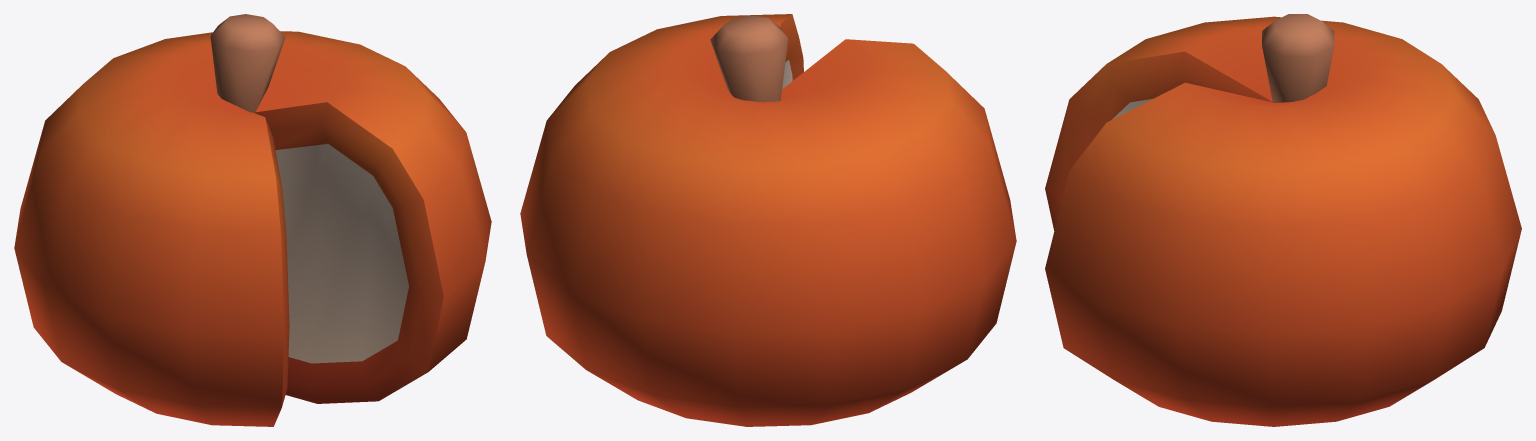
Rendered from KFB_Loot_apple_cut.r1.glb.
3 views of the same model, side by side, from view 1: azimuth 30°, elevation 25°; view 2: azimuth 150°, elevation 25°; view 3: azimuth 270°, elevation 25° (orthographic). The views are drawn at different scales.
Visible parts, largest first — view 1: KFB_Loot_apple_cut; view 2: KFB_Loot_apple_cut; view 3: KFB_Loot_apple_cut.
Part boxes in pixels (x1=…): KFB_Loot_apple_cut: x1=14, y1=14, x2=491, y2=426; KFB_Loot_apple_cut: x1=520, y1=14, x2=1016, y2=426; KFB_Loot_apple_cut: x1=1045, y1=14, x2=1521, y2=426.
Bounding box in the file's own units: 0.525 × 0.4254 × 0.505.
1 material, 1 textured.
